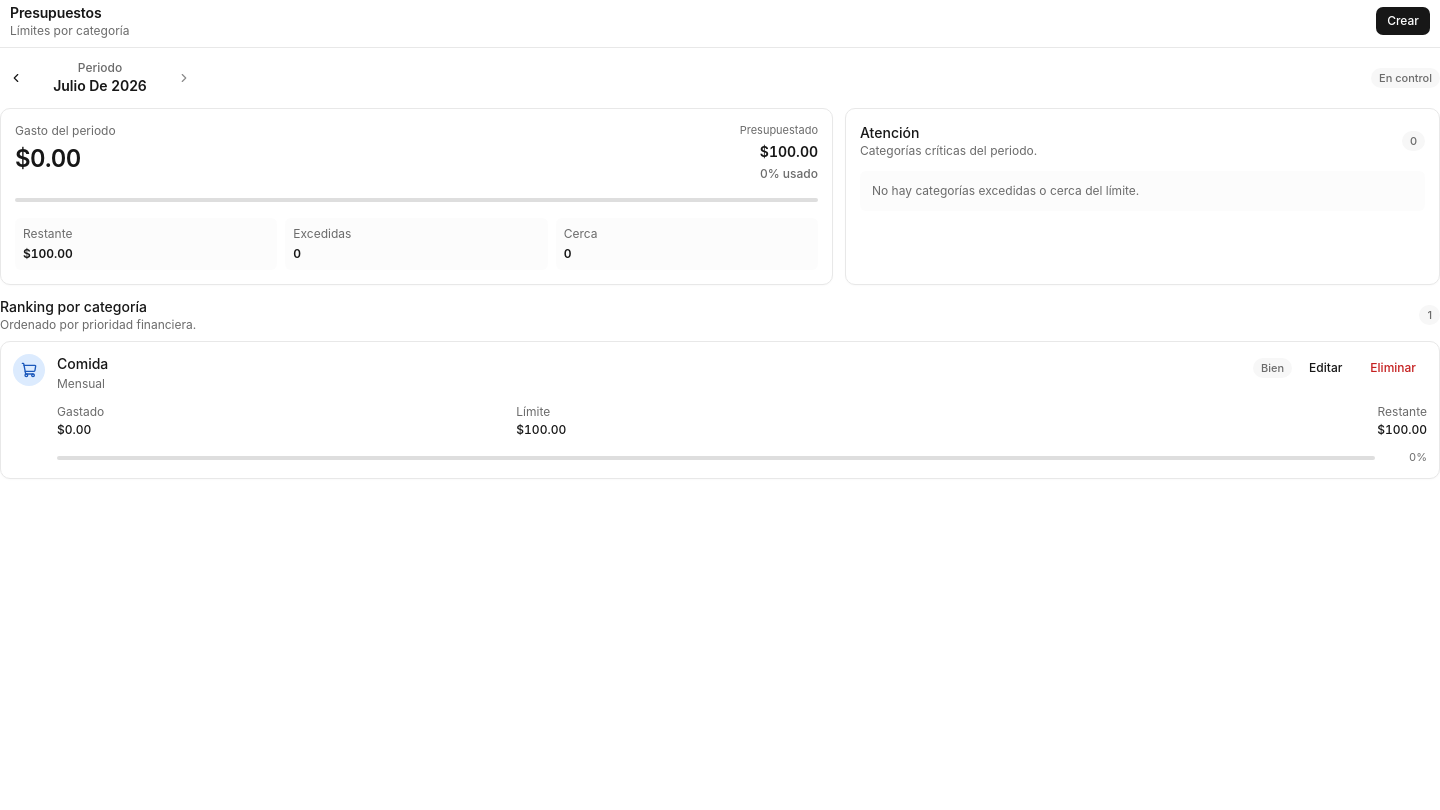
BudgetsPage › keeps the edit panel open and announces API rejection without invalidating
The width and height of the screenshot is (1440, 810).
Click the button with aria-label "Editar presupuesto de Comida".
click(1326, 368)  # box [1298,354,1353,382]
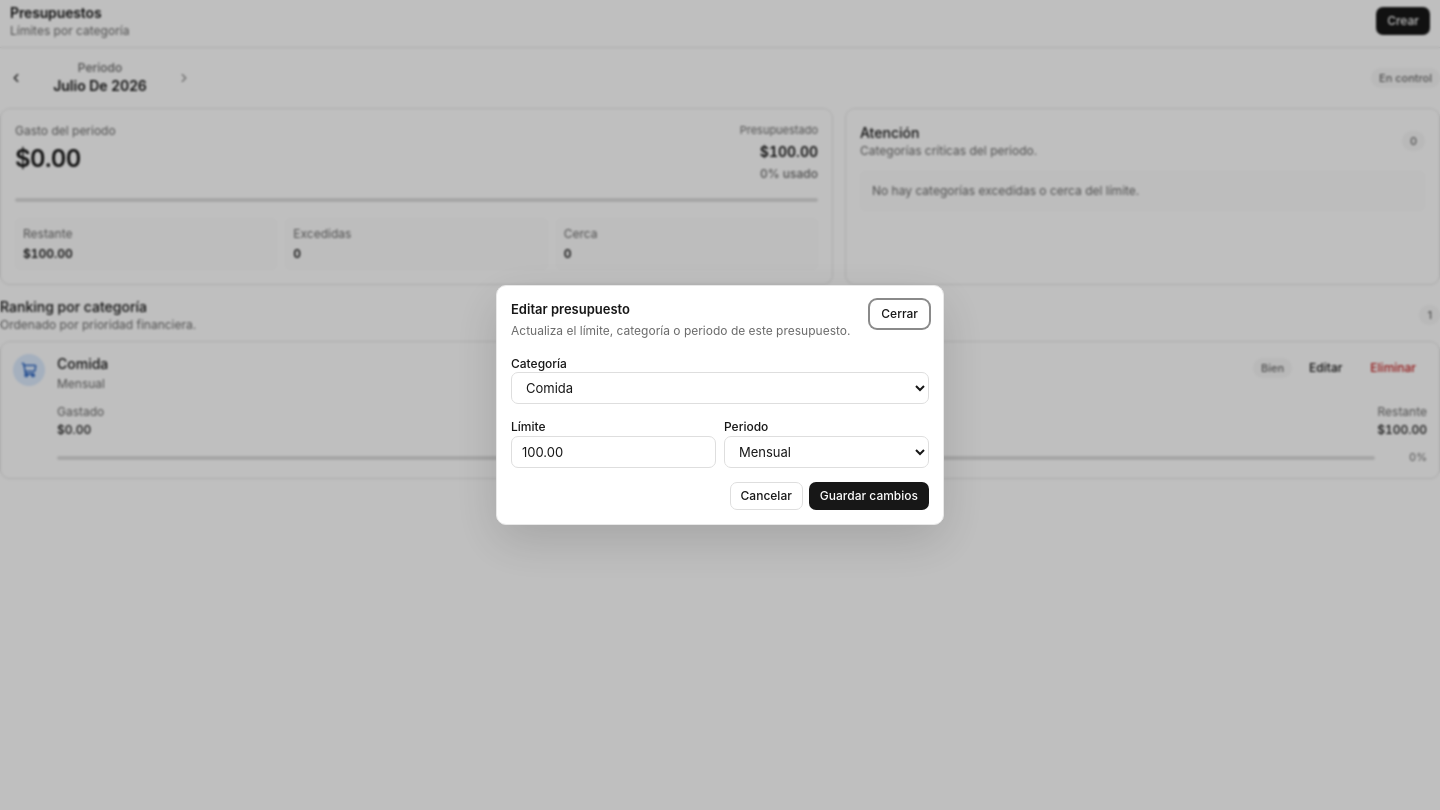
Replace the text in the field labelled "Límite" with "250" at (614, 452), box [511,436,716,468]
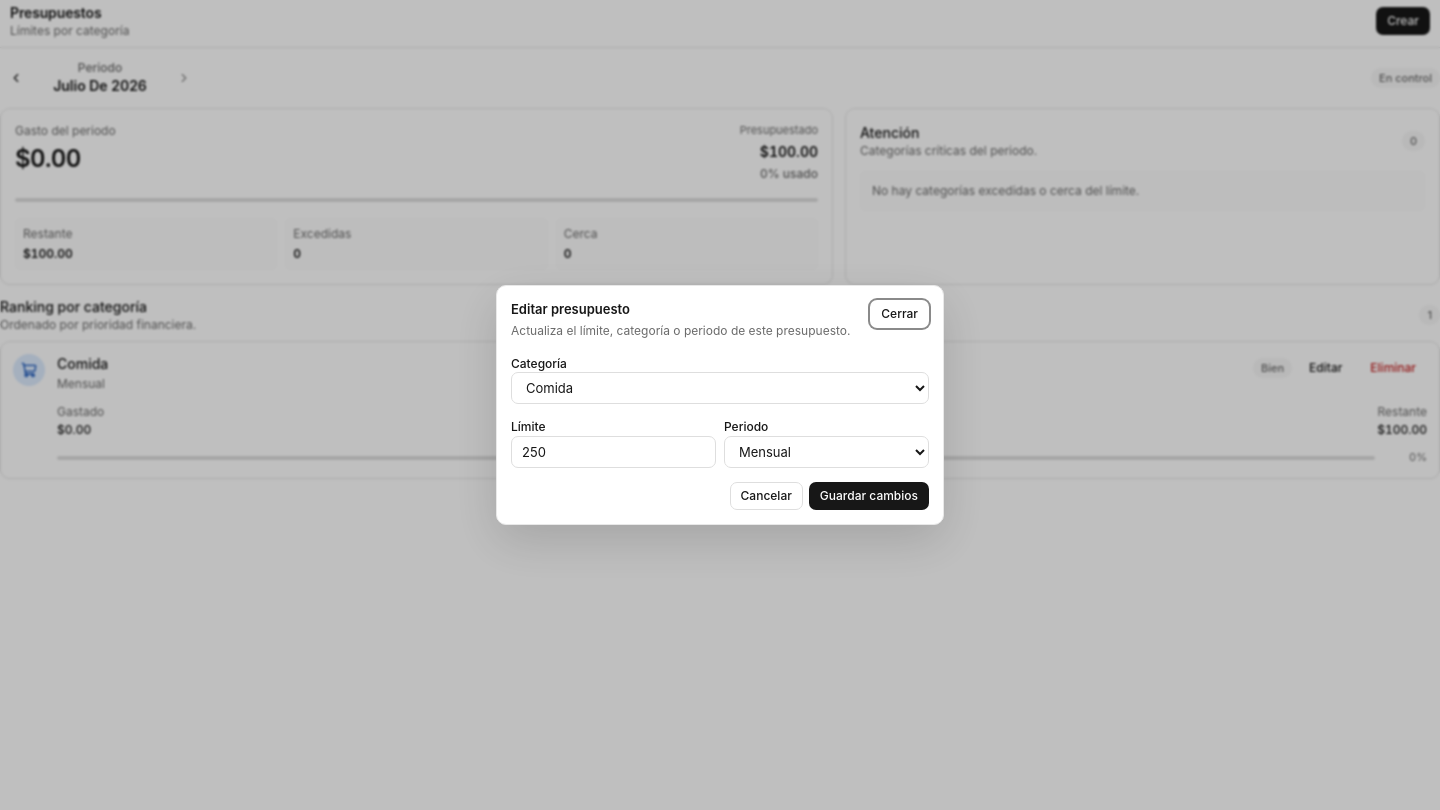
Click the button "Guardar cambios".
click(869, 496)  # box [809,482,929,510]
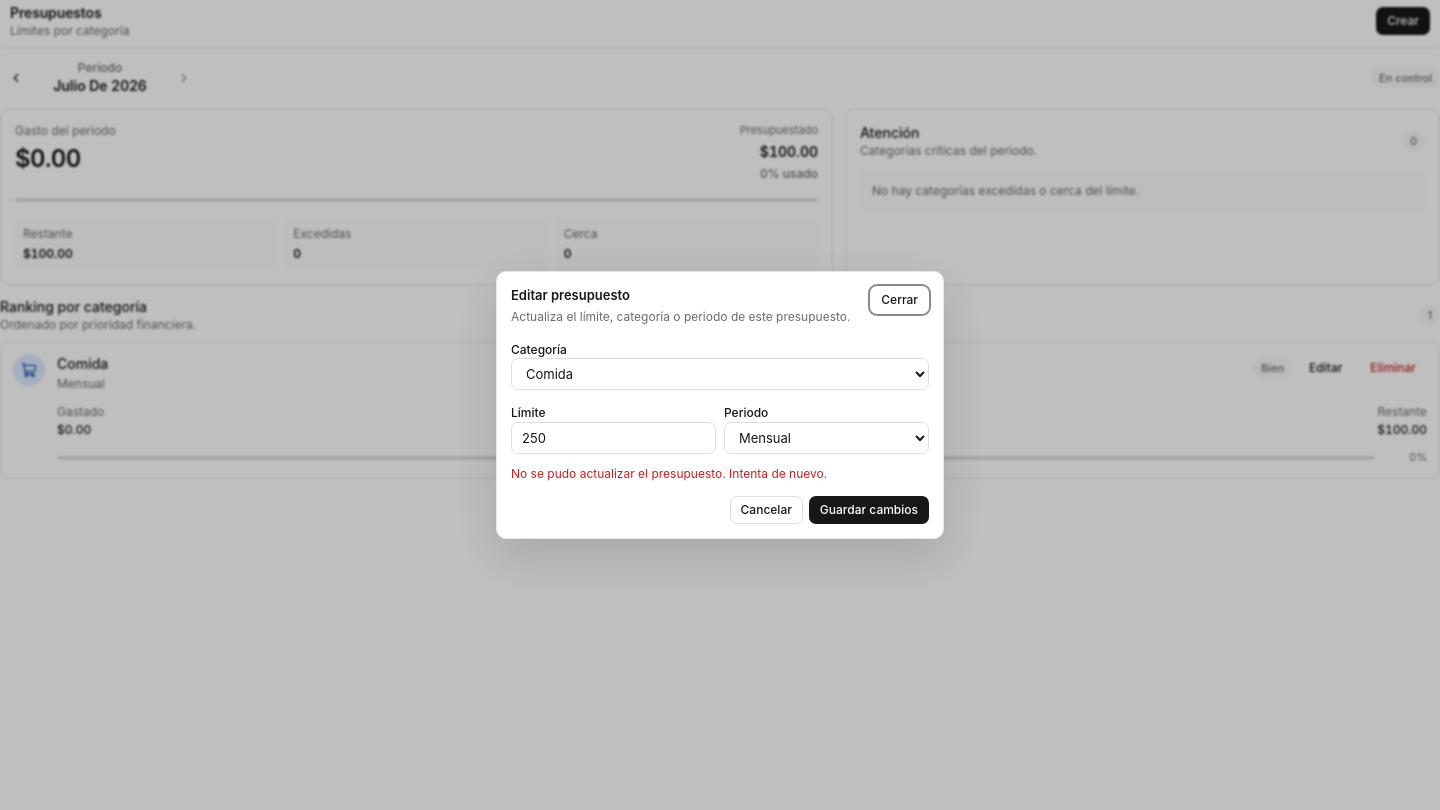
Check: the heading "Editar presupuesto" is shown, box [511,287,630,303]
Check: the message shows "No se pudo actualizar el presupuesto", box [511,466,827,481]
